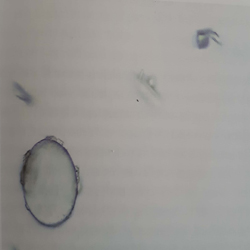RBC: (14, 135, 88, 229)
